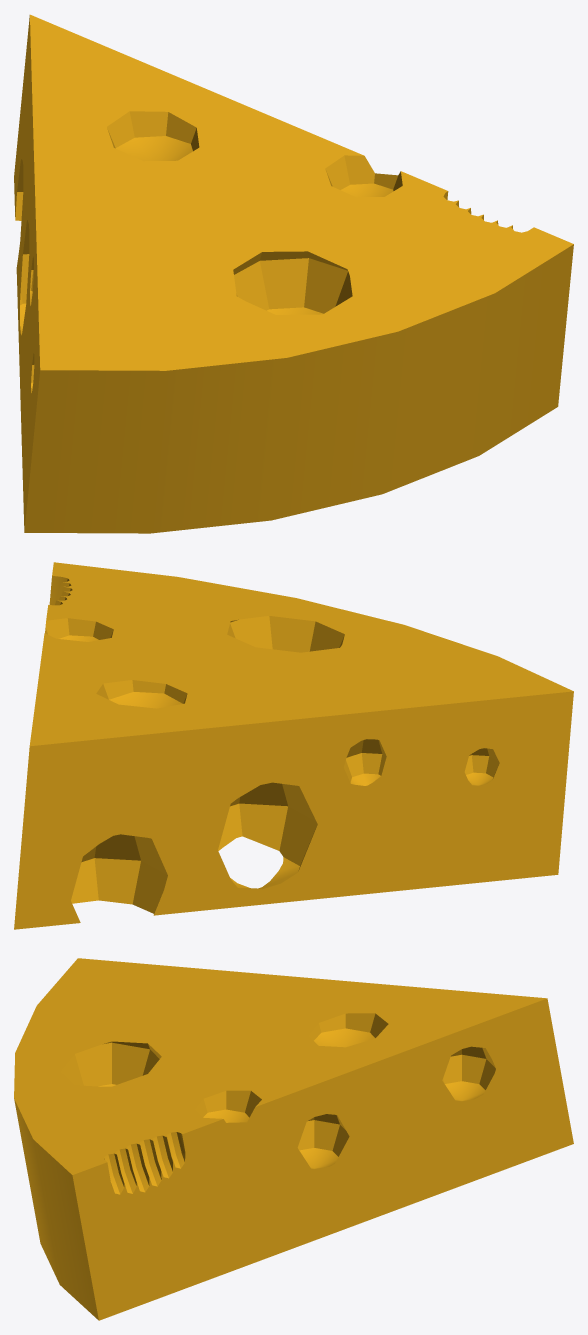
Rendered from cheese_basic.glb.
3 renders of one model, top to bottom at view 1: azimuth 30°, elevation 25°; view 2: azimuth 150°, elevation 25°; view 3: azimuth 270°, elevation 25°, orthographic. The views are drawn at different scales.
Parts seen in each view (by area): view 1: 0.039; view 2: 0.039; view 3: 0.039.
Part boxes in pixels (left/top/right/bottom): 0.039: left=14, top=14, right=573, bottom=533; 0.039: left=14, top=562, right=573, bottom=929; 0.039: left=14, top=958, right=573, bottom=1320.
Bounding box in the file's own units: 0.661 × 0.3212 × 0.7234.
